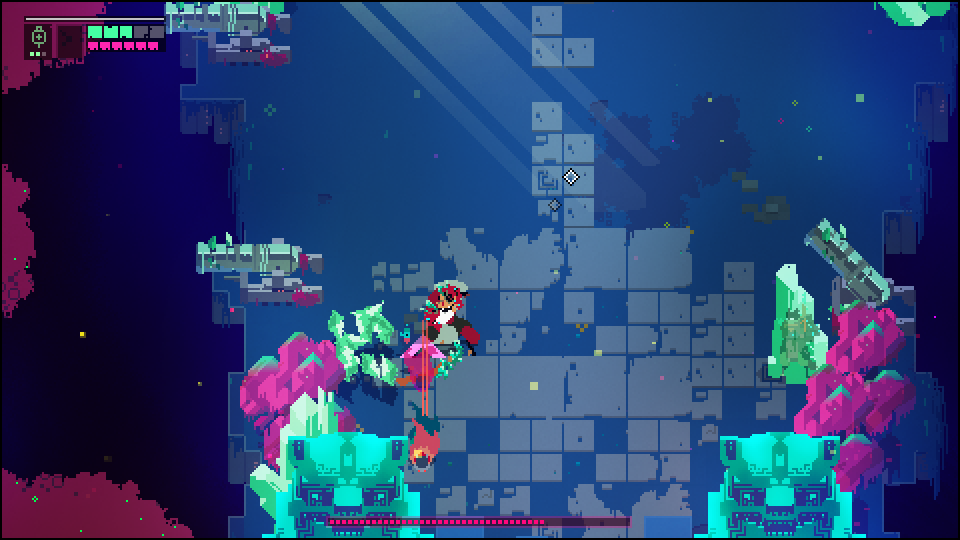hanged_man: (406, 279, 482, 385)
player: (405, 415, 442, 473)
